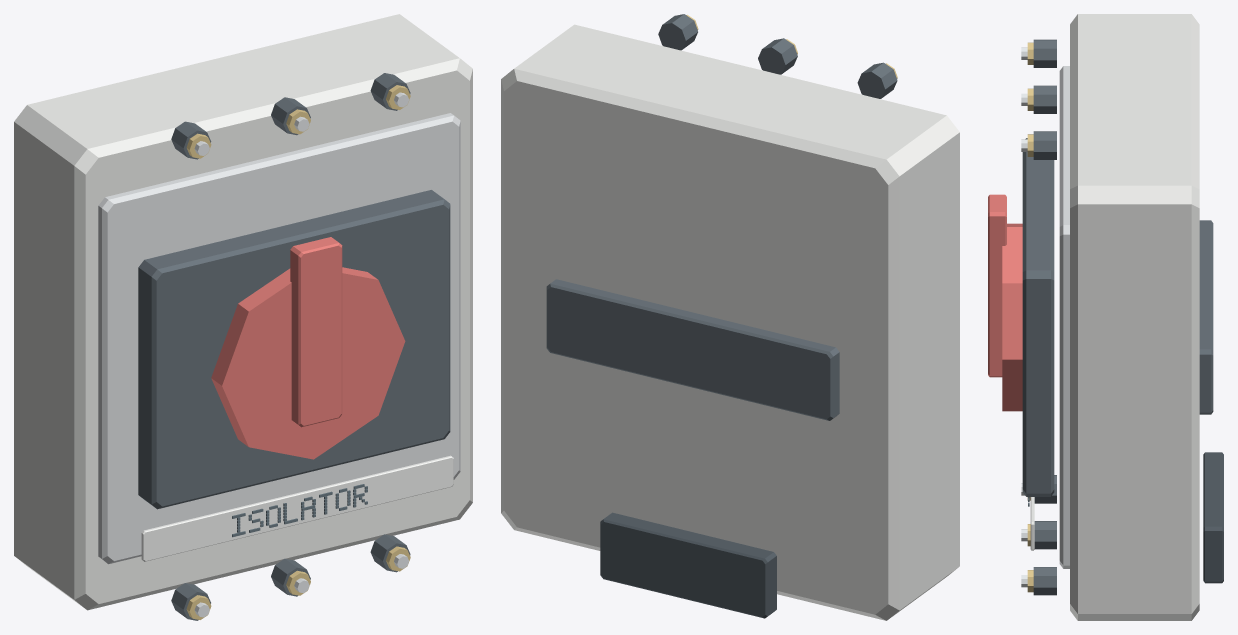
File: isolator3P.glb
The picture shows the model from 3 angles, left to right: view 1: azimuth 30°, elevation 25°; view 2: azimuth 150°, elevation 25°; view 3: azimuth 270°, elevation 25°; orthographic projection. The views are drawn at different scales.
Visible parts, largest first — view 1: isolator3P-board; view 2: isolator3P-board; view 3: isolator3P-board.
Boxes of the visible parts, x1,y1,x2,y2 form: isolator3P-board: [14, 14, 472, 620]; isolator3P-board: [501, 14, 959, 620]; isolator3P-board: [988, 14, 1223, 620].
Size of the model in its own units: 2.75 by 3.23 by 1.49.
